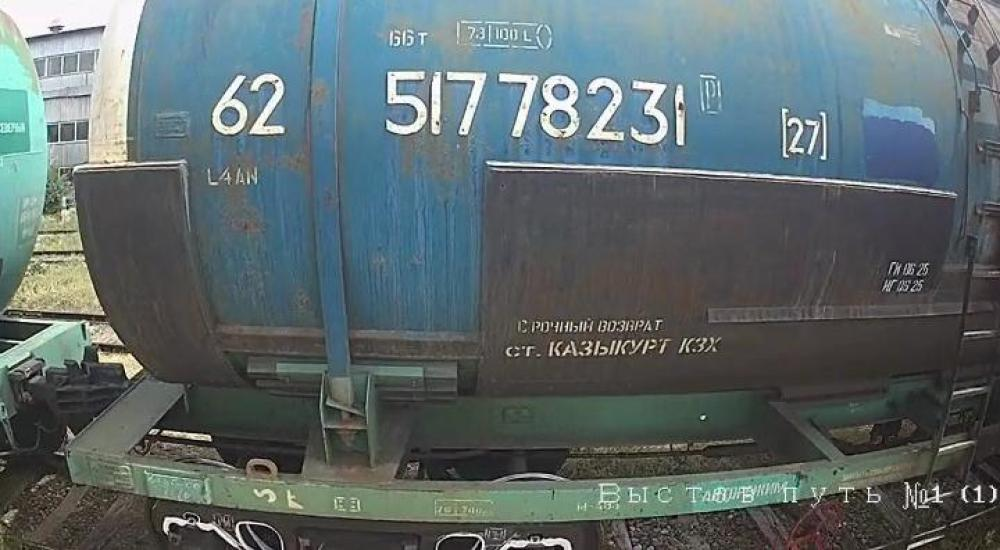Wagon-number: (379, 64, 693, 151)
